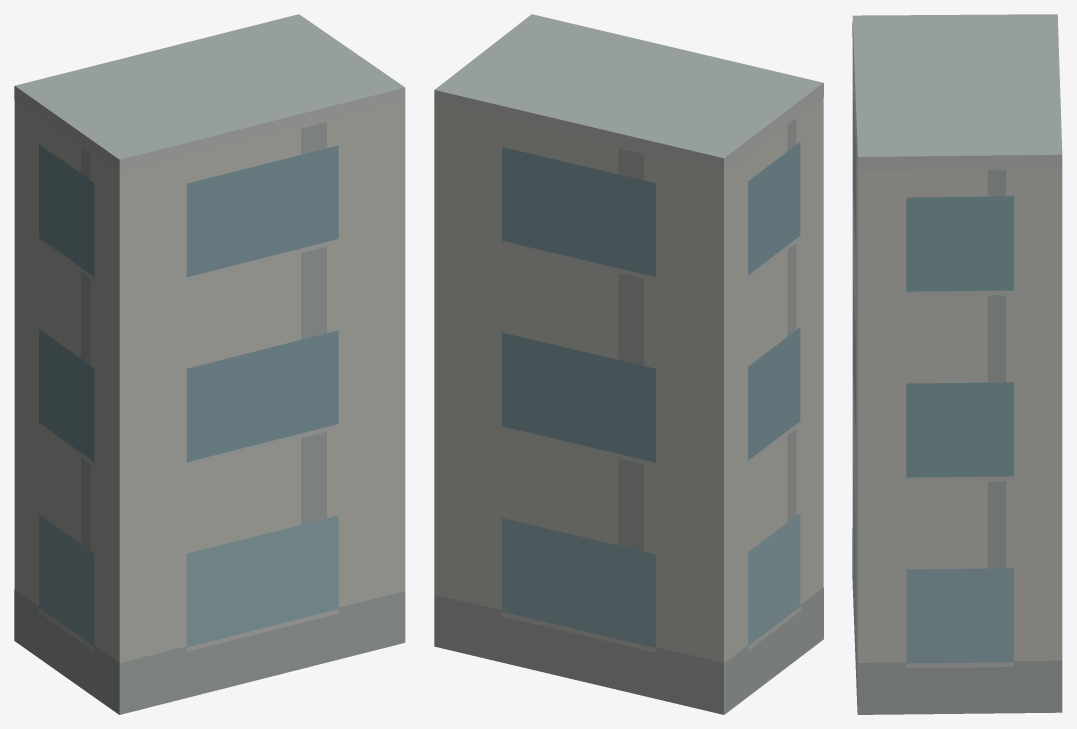
The model's file is survey-upis-32634287.glb.
3 views of the same model, side by side, from view 1: azimuth 30°, elevation 25°; view 2: azimuth 150°, elevation 25°; view 3: azimuth 270°, elevation 25° (orthographic).
Visible parts, largest first — view 1: survey-upis-32634287.tmp; view 2: survey-upis-32634287.tmp; view 3: survey-upis-32634287.tmp.
Boxes of the visible parts, x1=… form: survey-upis-32634287.tmp: x1=14, y1=14, x2=405, y2=714; survey-upis-32634287.tmp: x1=434, y1=14, x2=823, y2=714; survey-upis-32634287.tmp: x1=852, y1=14, x2=1062, y2=714.
Size of the model in its own units: 5.03 by 9.15 by 3.13.
